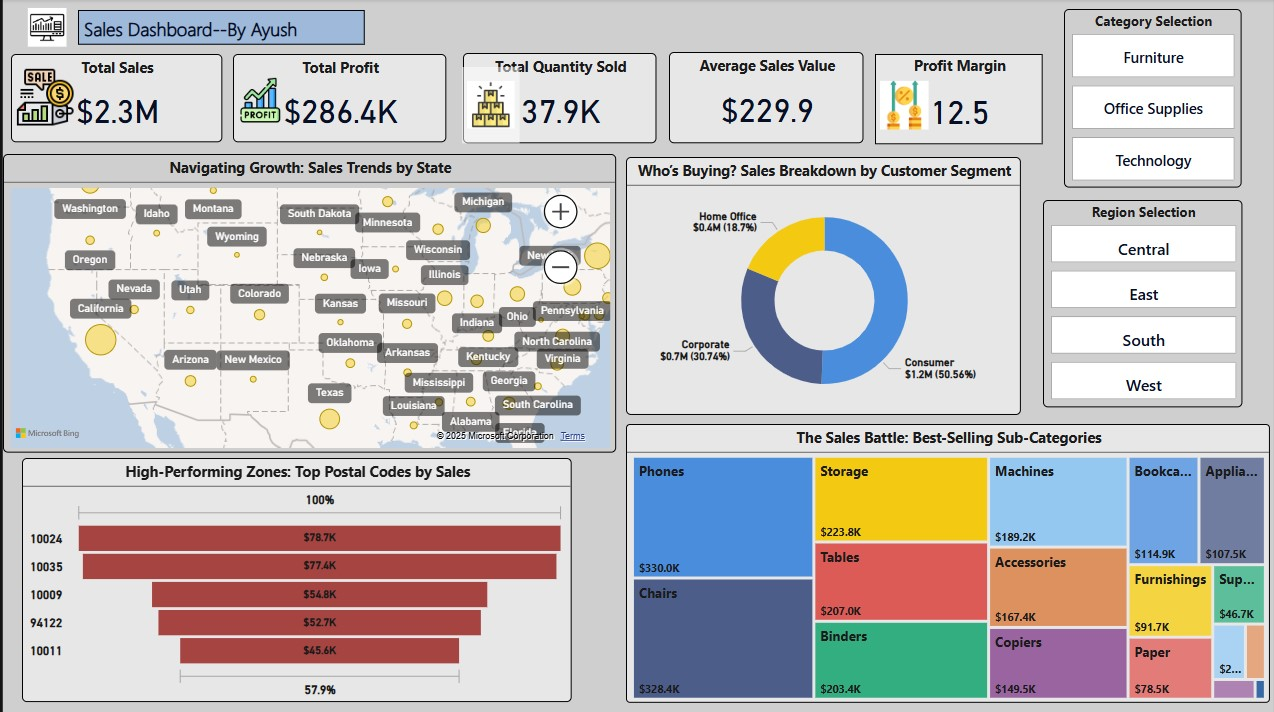

The dashboard page shown, as its layout file describes it:
{"tool":"powerbi","page":{"name":"Page 1","canvas":[1280,720],"ordinal":0},"visuals":[{"type":"card","title":"Total Sales","fields":{"Values":["Measures (2).Total_Sales"]},"box":[8.1,55.8,212.6,89.4],"z":0},{"type":"card","title":"Total Profit","fields":{"Values":["Measures (2).Total_Profit"]},"box":[232.3,55.8,214.9,89.4],"z":1000},{"type":"card","title":"Total Quantity Sold","fields":{"Values":["Measures (2).Total_Quantity"]},"box":[463.4,54.6,195.1,90.6],"z":2000},{"type":"card","title":"Average Sales Value","fields":{"Values":["Measures (2).Average_Sales"]},"box":[671.4,53.4,196.3,91.8],"z":3000},{"type":"card","title":"Profit Margin","fields":{"Values":["Measures (2).Profit Margin %"]},"box":[879.1,55.1,168.9,90.7],"z":4000},{"type":"advancedSlicerVisual","title":"Category Selection","fields":{"Values":["SampleSuperstore1.Category"]},"box":[1069.8,10.5,178.9,180],"z":5000},{"type":"treemap","title":"The Sales Battle: Best-Selling Sub-Categories","fields":{"Group":["SampleSuperstore1.Sub-Category"],"Values":["Measures (2).Total_Sales"]},"box":[627.6,428.4,648.9,280.9],"z":6000},{"type":"map","title":"Navigating Growth: Sales Trends by State","fields":{"Category":["SampleSuperstore1.State"],"Size":["Measures (2).Total_Sales"]},"box":[0,156.6,617.6,301.3],"z":7000},{"type":"advancedSlicerVisual","title":"Region Selection","fields":{"Values":["SampleSuperstore1.Region"]},"box":[1048,203,201,209],"z":8000},{"type":"donutChart","title":"Who’s Buying? Sales Breakdown by Customer Segment","fields":{"Category":["SampleSuperstore1.Segment"],"Y":["Measures (2).Total_Sales"]},"box":[627.5,159.6,398.1,260.4],"z":9000},{"type":"funnel","title":"High-Performing Zones: Top Postal Codes by Sales","fields":{"Category":["SampleSuperstore1.Postal Code"],"Y":["Measures (2).Total_Sales"]},"box":[19.6,463.1,553.8,246.2],"z":10000},{"type":"textbox","box":[75.6,10.7,288.9,34.7],"z":11000},{"type":"image","box":[8.1,53.4,60.5,90.7],"z":12000},{"type":"image","box":[232,60.4,55.1,83.6],"z":13000},{"type":"image","box":[462.9,68.8,57.9,76.8],"z":14000},{"type":"image","box":[879.1,68.4,58.7,77.3],"z":15000},{"type":"image","box":[0,4.4,89.8,48.9],"z":16000}]}

Visuals, with their boxes in screenshot pixels (x1, y1, x2, y2), scaled from the page's 1280x720 canvas onto the 1274x712 screenshot:
"Total Sales" card: [left=8, top=55, right=220, bottom=144]
"Total Profit" card: [left=231, top=55, right=445, bottom=144]
"Total Quantity Sold" card: [left=461, top=54, right=655, bottom=144]
"Average Sales Value" card: [left=668, top=53, right=864, bottom=144]
"Profit Margin" card: [left=875, top=54, right=1043, bottom=144]
"Category Selection" advancedSlicerVisual: [left=1065, top=10, right=1243, bottom=188]
"The Sales Battle: Best-Selling Sub-Categories" treemap: [left=625, top=424, right=1271, bottom=701]
"Navigating Growth: Sales Trends by State" map: [left=0, top=155, right=615, bottom=453]
"Region Selection" advancedSlicerVisual: [left=1043, top=201, right=1243, bottom=407]
"Who’s Buying? Sales Breakdown by Customer Segment" donutChart: [left=625, top=158, right=1021, bottom=415]
"High-Performing Zones: Top Postal Codes by Sales" funnel: [left=20, top=458, right=571, bottom=701]
textbox: [left=75, top=11, right=363, bottom=45]
image: [left=8, top=53, right=68, bottom=142]
image: [left=231, top=60, right=286, bottom=142]
image: [left=461, top=68, right=518, bottom=144]
image: [left=875, top=68, right=933, bottom=144]
image: [left=0, top=4, right=89, bottom=53]
